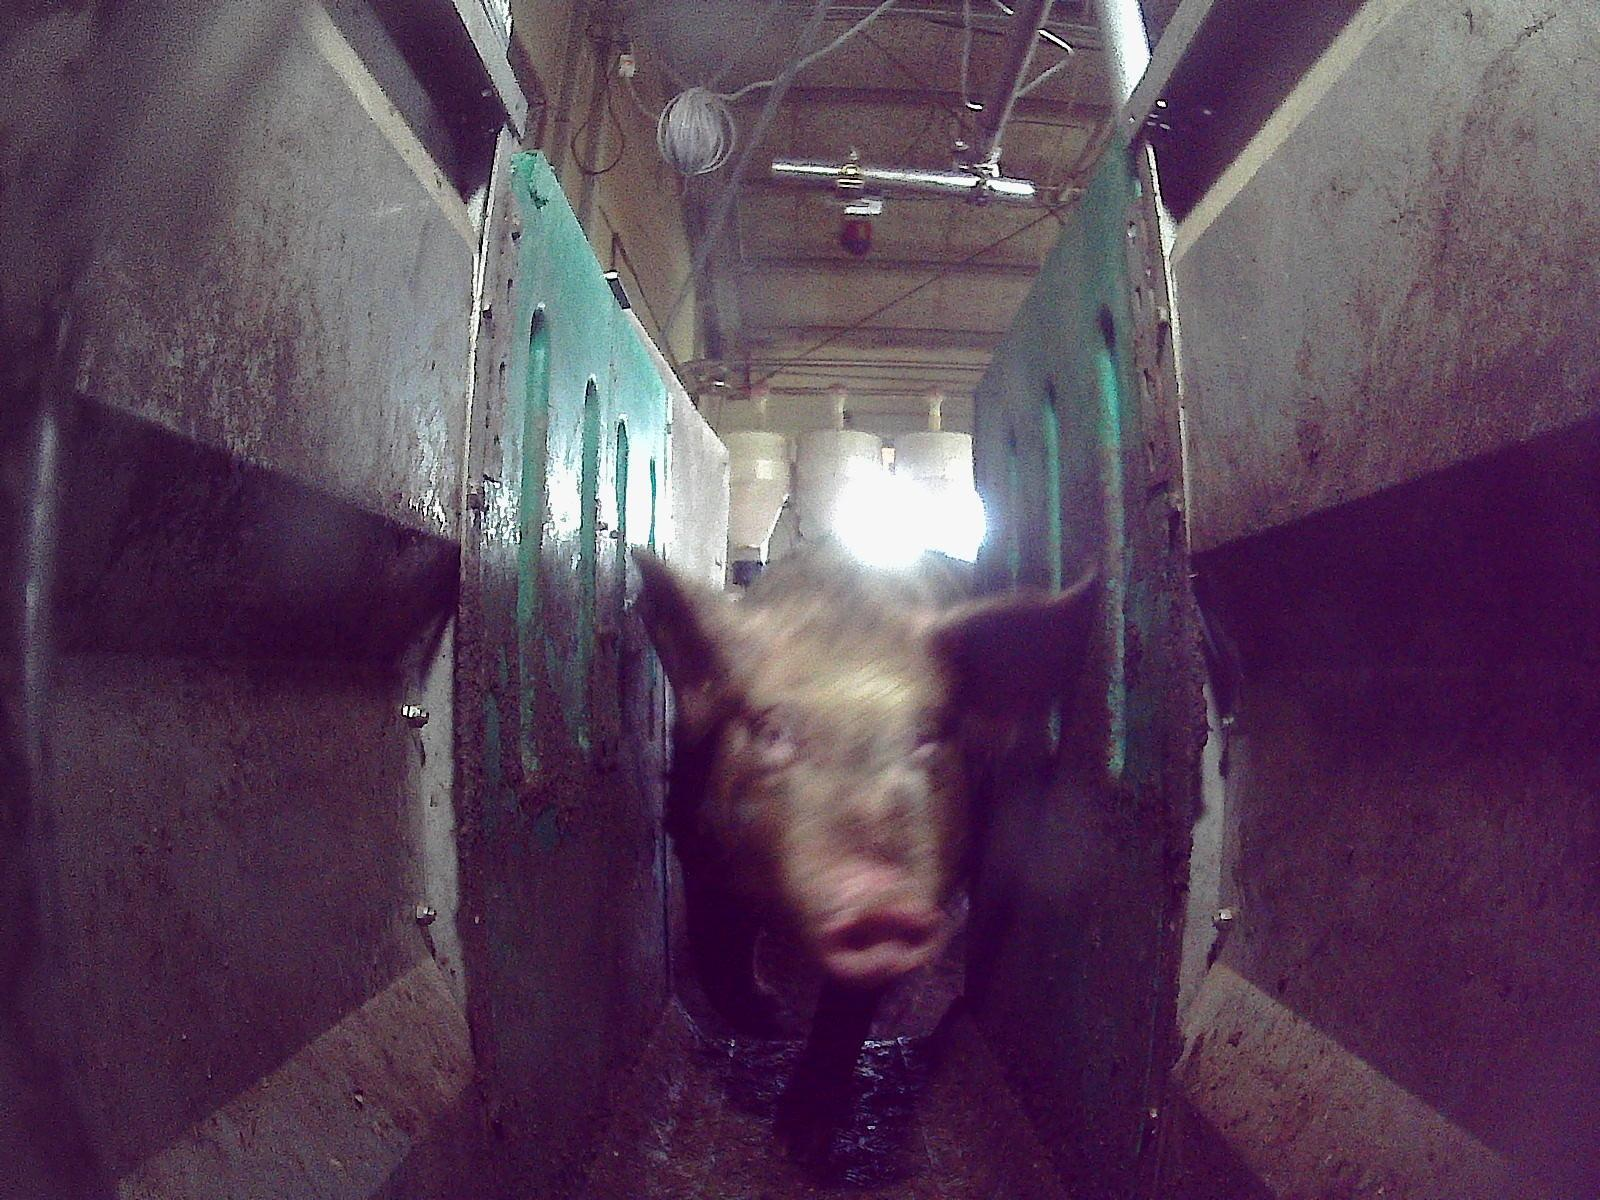Face: (686, 595, 969, 988)
